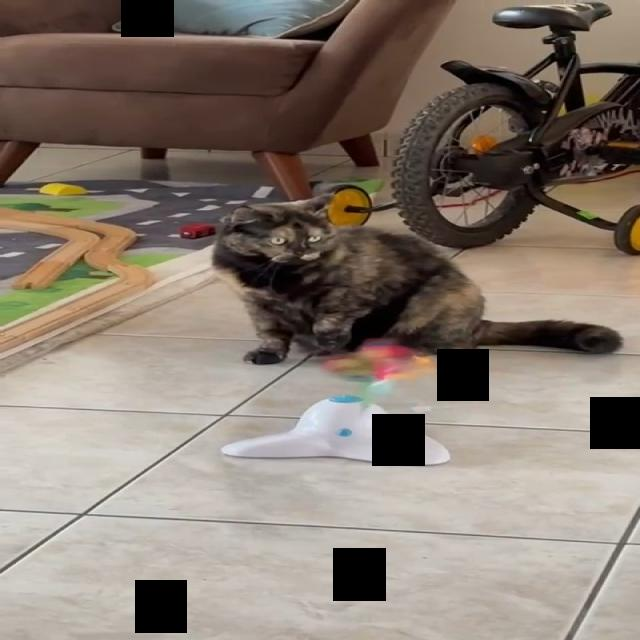authorized: (209, 190, 623, 364)
